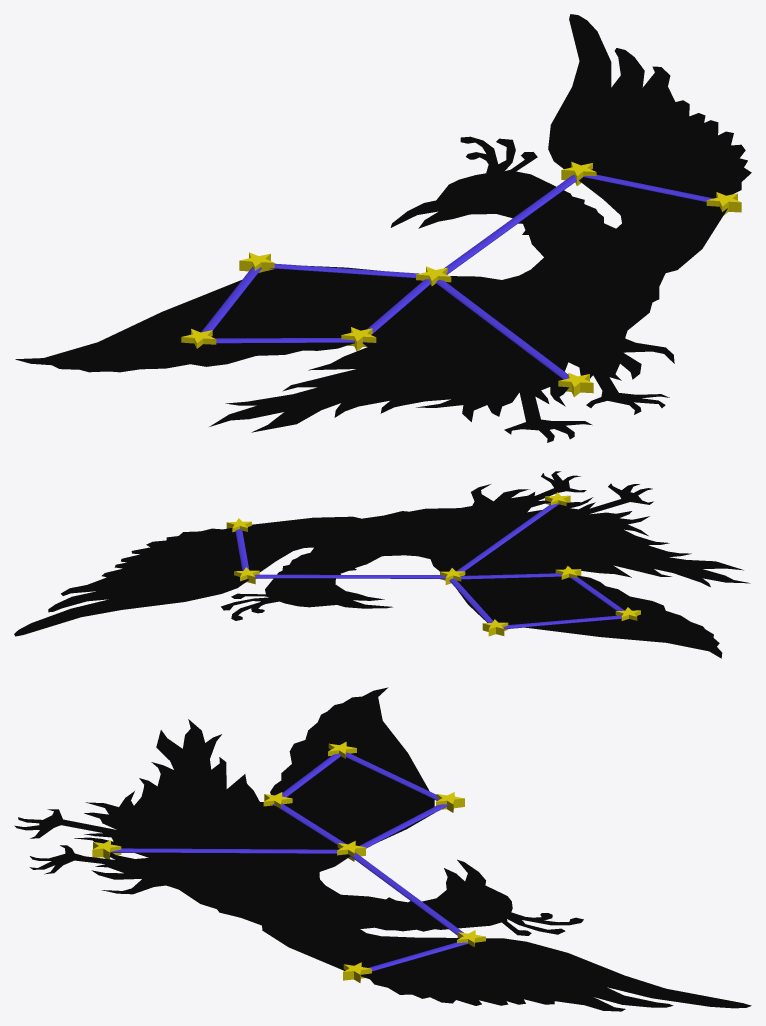
File: Houou-za.glb
The picture shows the model from 3 angles, top to bottom: view 1: azimuth 30°, elevation 25°; view 2: azimuth 150°, elevation 25°; view 3: azimuth 270°, elevation 25°; orthographic projection. The views are drawn at different scales.
Visible parts, largest first — view 1: 円, 円柱.002, 円柱.009, 円柱.004, 円柱.005, 円柱.006, 円柱.001; view 2: 円, 円柱.009, 円柱.002, 円柱.005, 円柱.003, 円柱.004; view 3: 円, 円柱.002, 円柱.009, 円柱.005, 円柱.004.
Boxes of the visible parts, x1,y1,x2,y2 form: 円: [15, 14, 751, 442]; 円柱.002: [436, 280, 568, 379]; 円柱.009: [444, 175, 576, 274]; 円柱.004: [269, 263, 418, 277]; 円柱.005: [201, 267, 261, 332]; 円柱.006: [216, 338, 366, 343]; 円柱.001: [583, 174, 713, 201]; 円: [14, 471, 750, 658]; 円柱.009: [254, 574, 445, 578]; 円柱.002: [456, 503, 558, 571]; 円柱.005: [503, 615, 621, 629]; 円柱.003: [460, 573, 561, 579]; 円柱.004: [449, 578, 493, 622]; 円: [14, 687, 751, 1011]; 円柱.002: [111, 848, 337, 853]; 円柱.009: [348, 852, 463, 935]; 円柱.005: [345, 752, 439, 800]; 円柱.004: [359, 804, 447, 848].
Bounding box in the file's own units: 72.76 × 0.8959 × 70.
